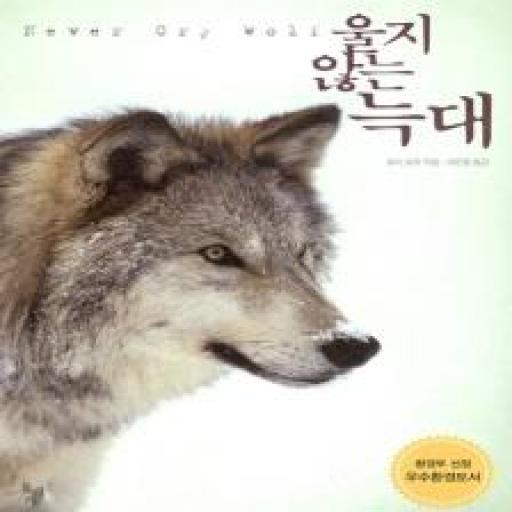wolf: (0, 84, 384, 508)
